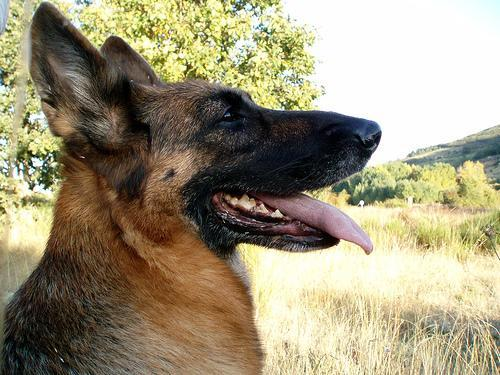German_shepherd: (0, 3, 381, 374)
